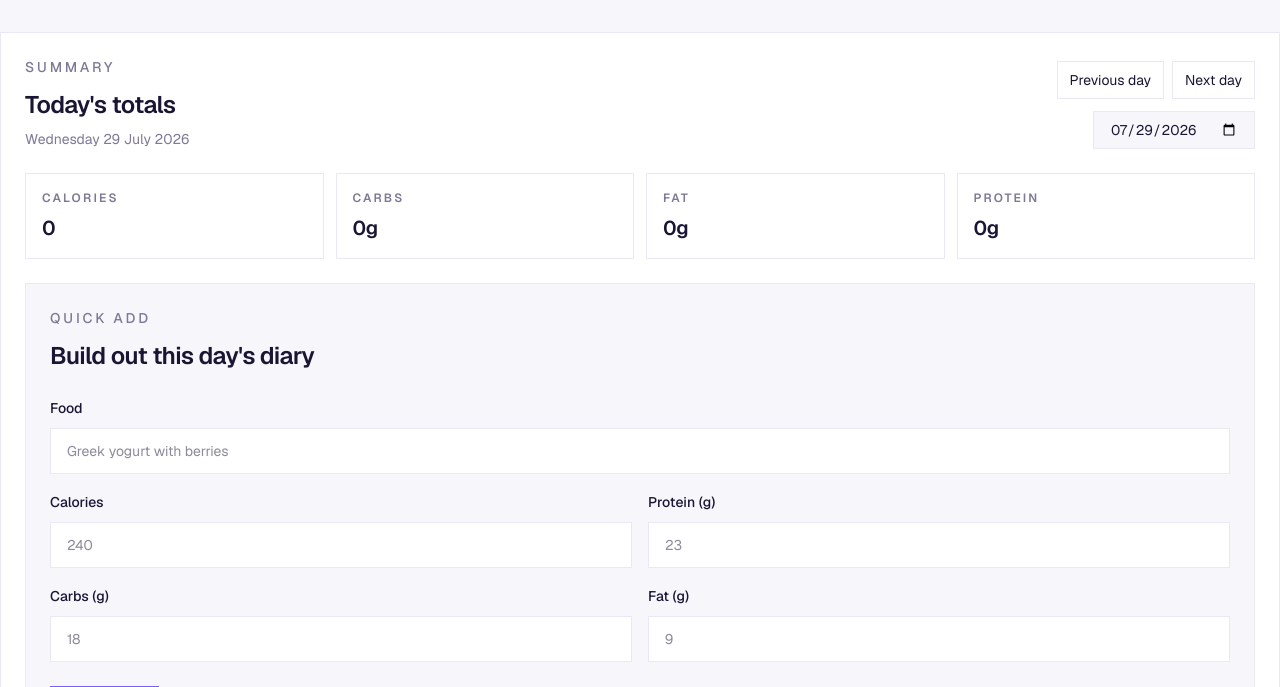
Test case: DiaryPage › lets visitors build up local diary entries before signing in
The width and height of the screenshot is (1280, 687).
In the field labelled "Food": (640, 451) [50, 428, 1230, 474], type "Greek yogurt"
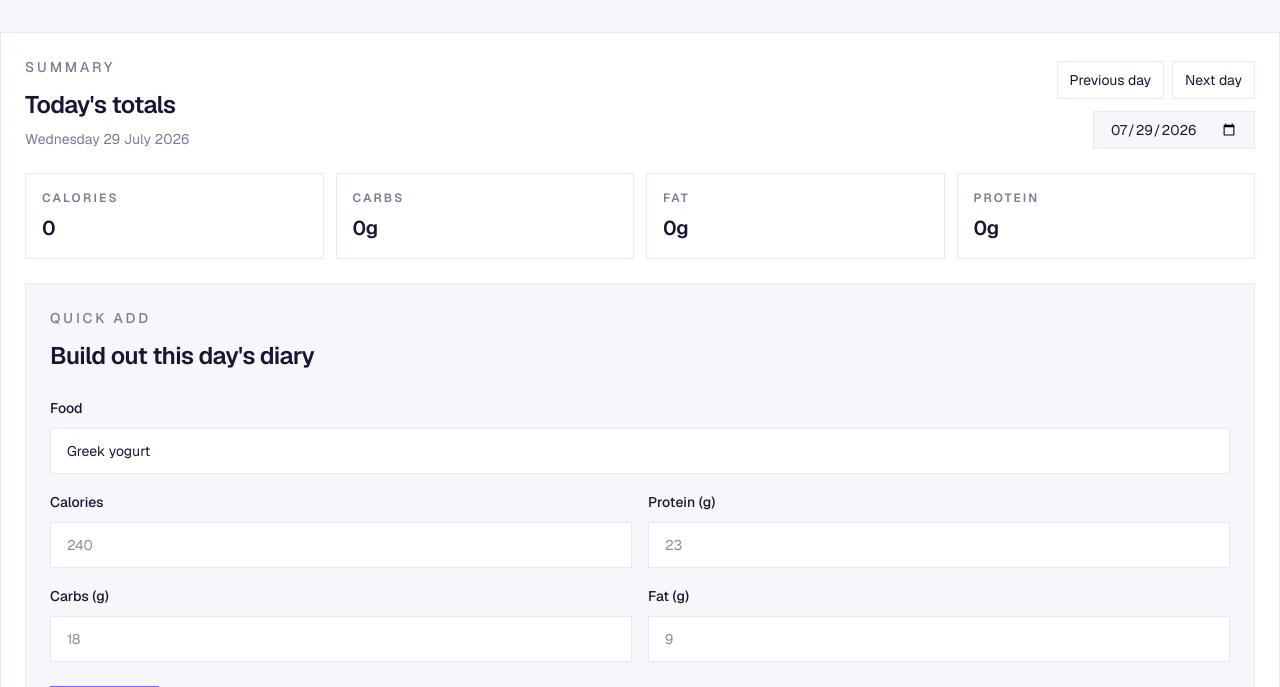
In the number field labelled "Calories": (341, 545) [50, 522, 632, 568], type "150"
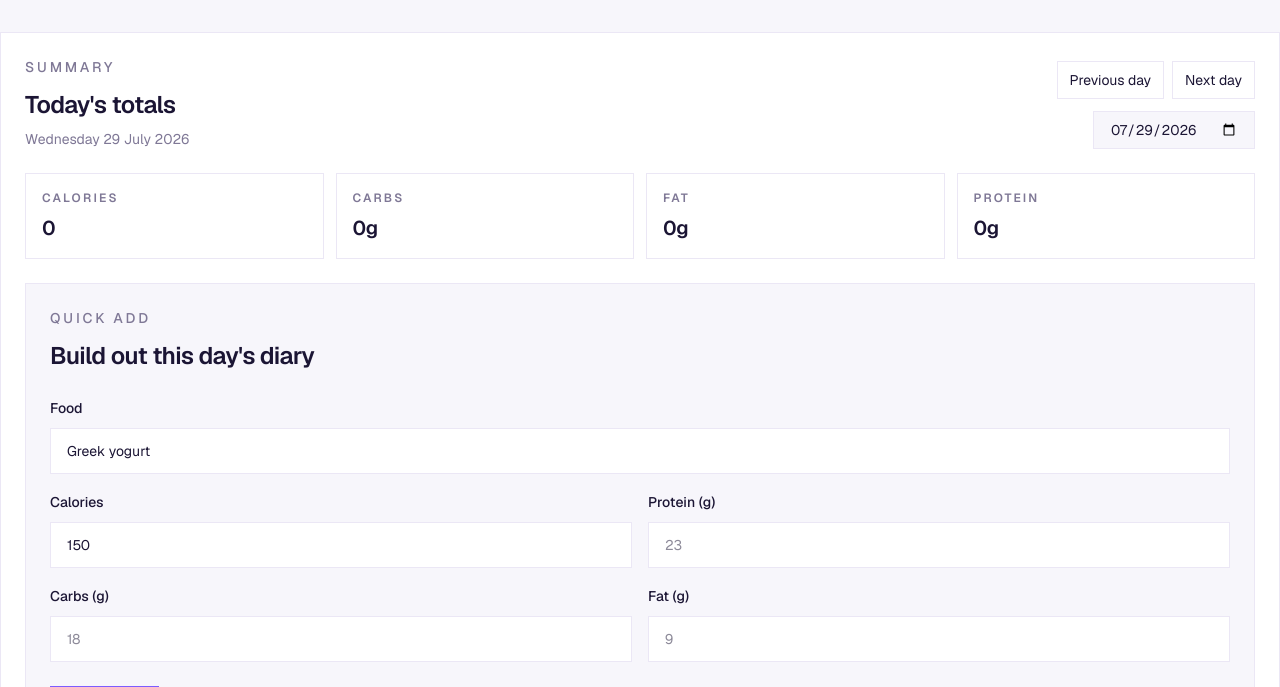
In the number field labelled "Protein (g)": (939, 545) [648, 522, 1230, 568], type "15"
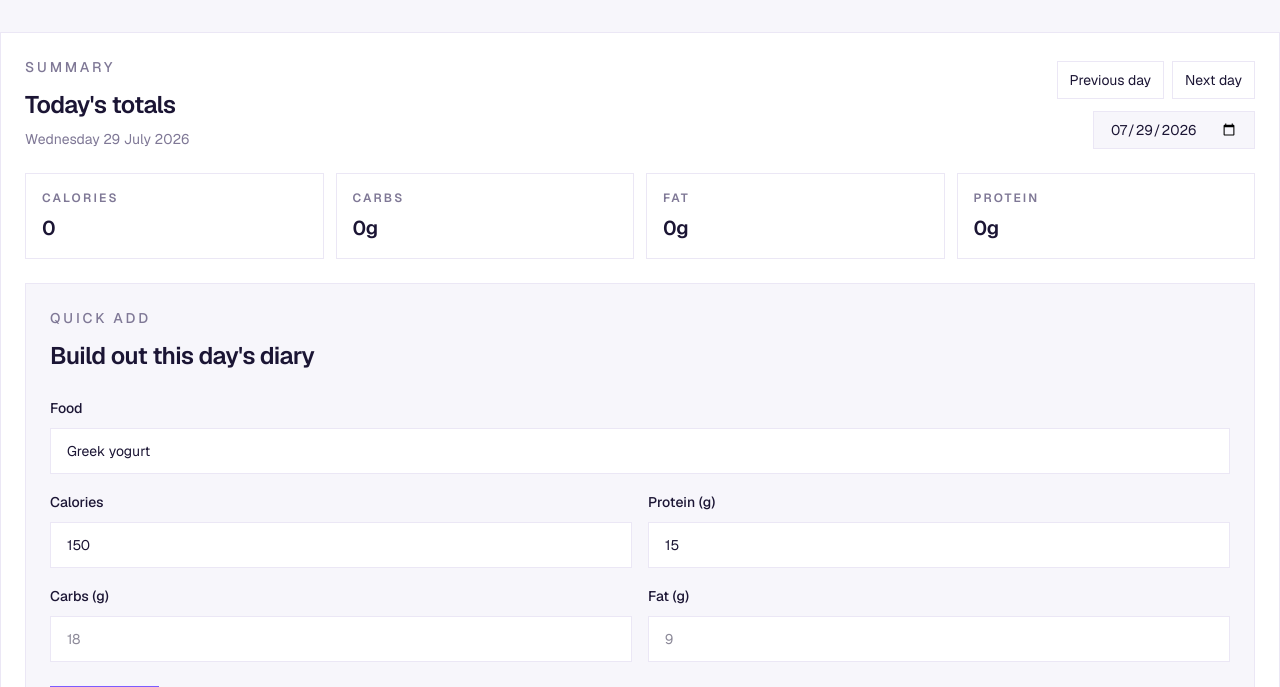
In the number field labelled "Carbs (g)": (341, 639) [50, 616, 632, 662], type "9"
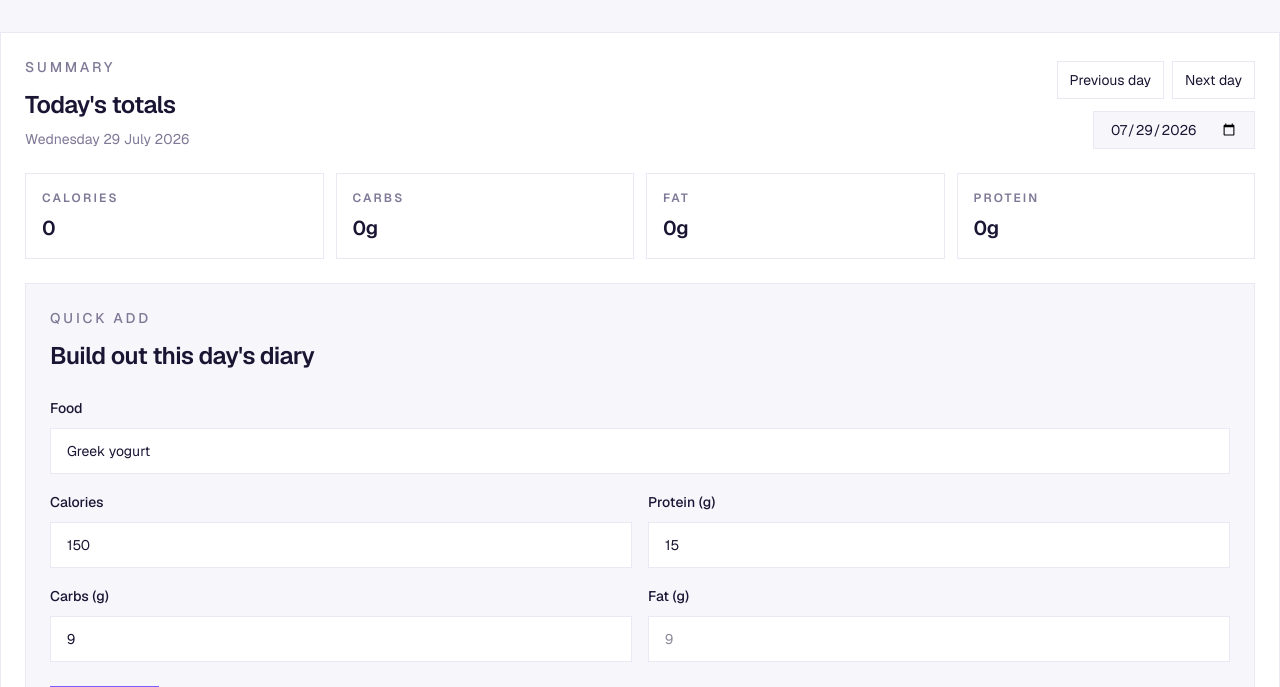
In the number field labelled "Fat (g)": (939, 639) [648, 616, 1230, 662], type "3"
(page scrolled)
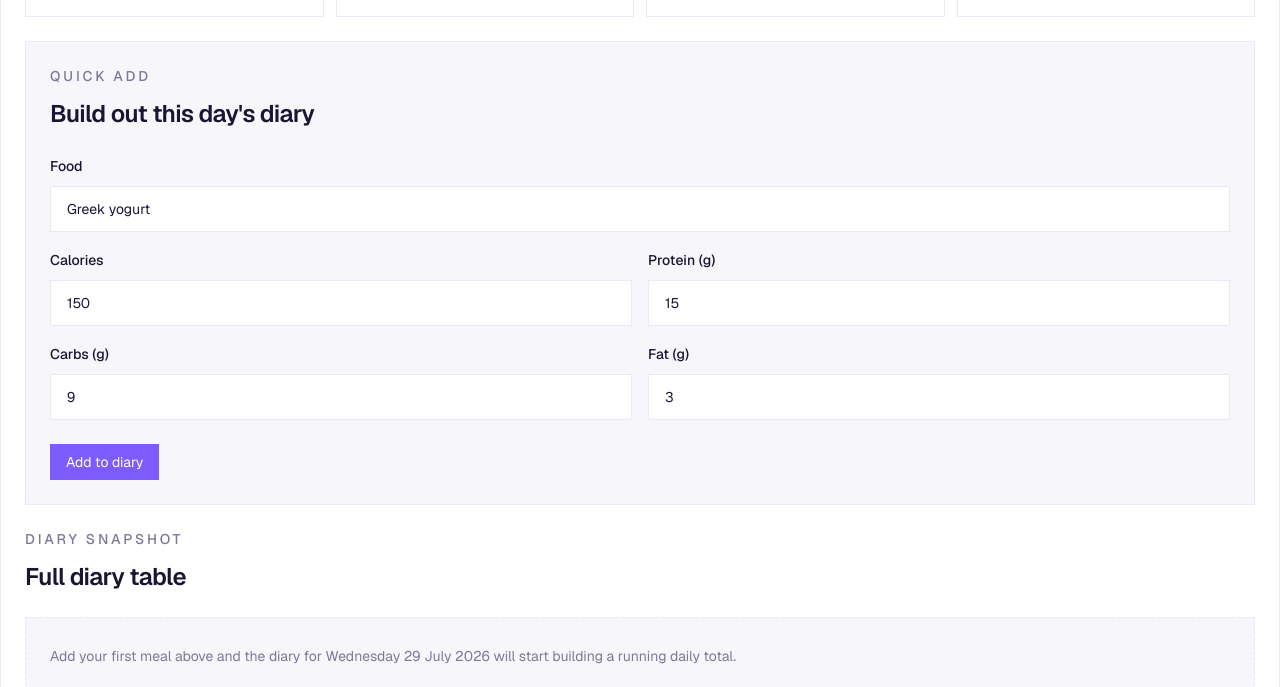
Click the button "Add to diary": (105, 462) [50, 444, 159, 480]
(page scrolled)
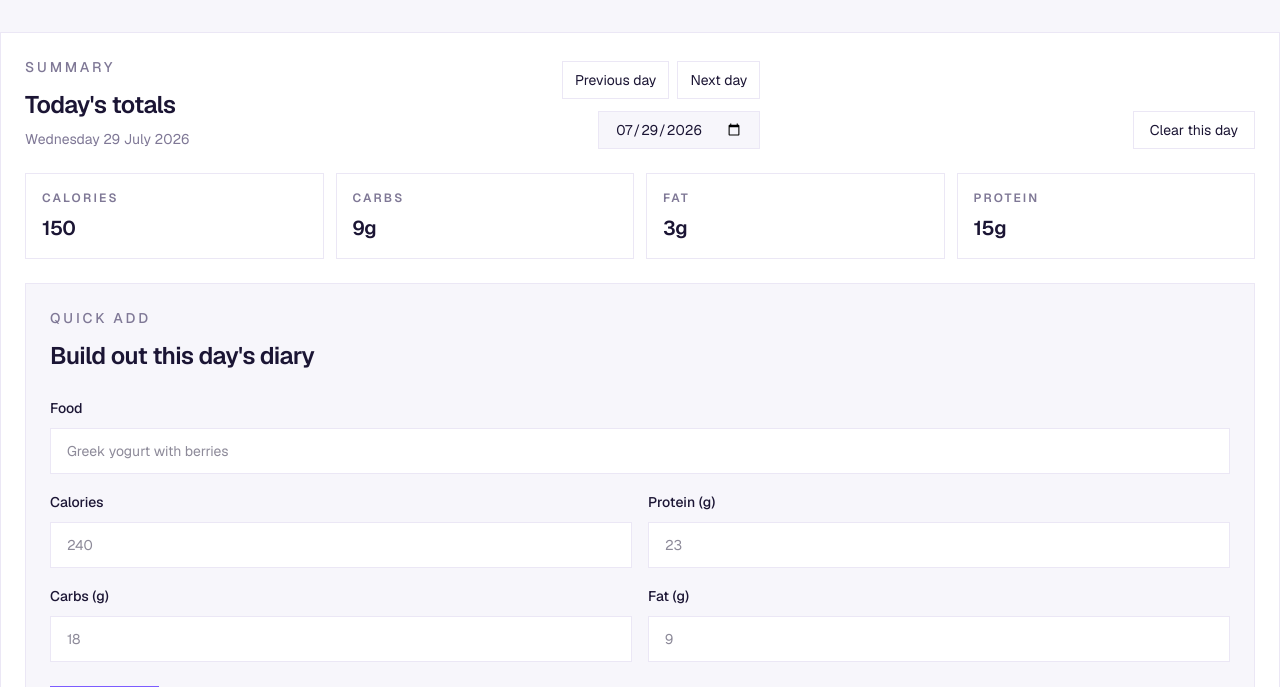
expect the text "150" is shown: met, box [42, 215, 75, 241]
expect the text "15g" is shown: met, box [974, 215, 1006, 241]
